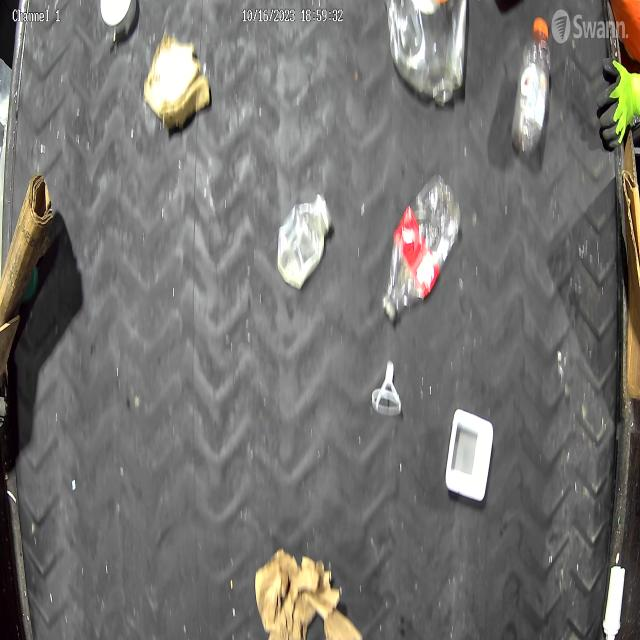can: (100, 0, 137, 41)
non_white_jug: (388, 0, 468, 108)
plastic_bottle: (383, 175, 462, 323), (510, 16, 551, 154)
